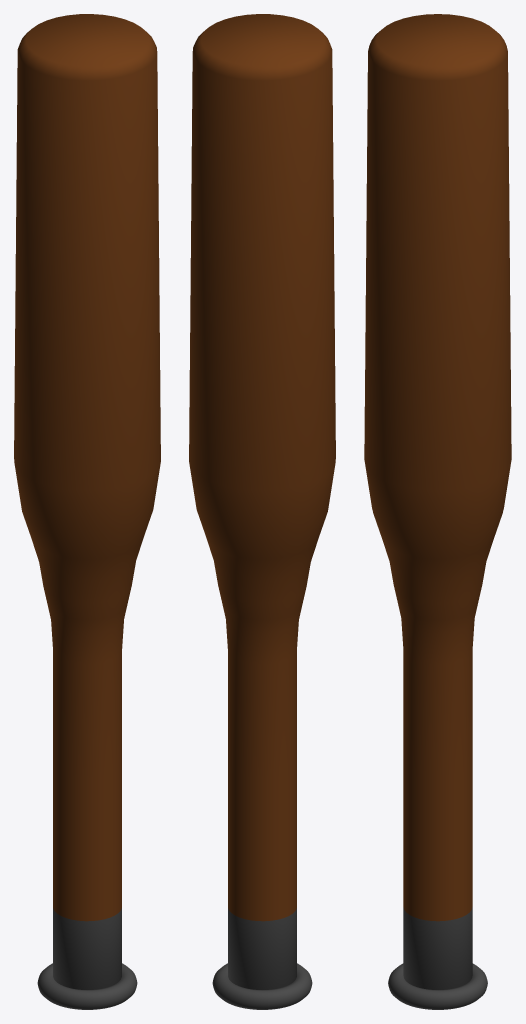
File: baseballbat.fbx
The picture shows the model from 3 angles, left to right: view 1: azimuth 30°, elevation 25°; view 2: azimuth 150°, elevation 25°; view 3: azimuth 270°, elevation 25°; orthographic projection.
Parts seen in each view (by area): view 1: Baseball bat; view 2: Baseball bat; view 3: Baseball bat.
Boxes of the visible parts, box(x1,y1,x2,y2) form: Baseball bat: box(14, 14, 160, 1009); Baseball bat: box(189, 14, 335, 1009); Baseball bat: box(364, 14, 511, 1009).
Bounding box in the file's own units: 361 × 2573 × 361.
